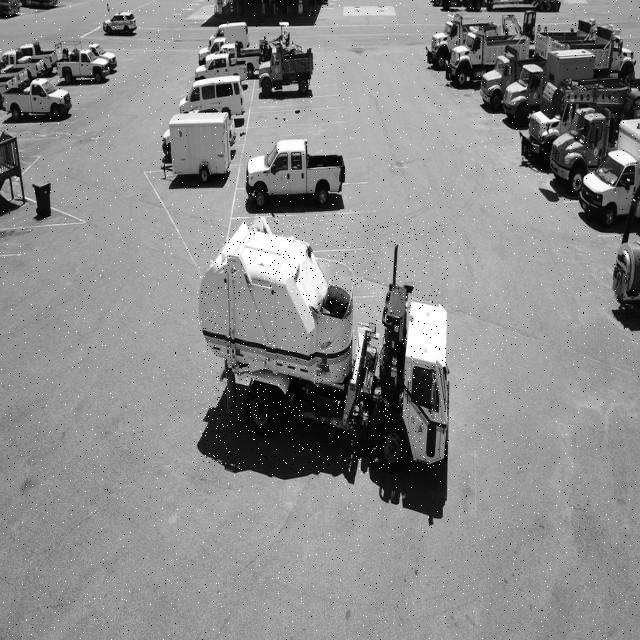Garbage Truck: (197, 217, 449, 470)
